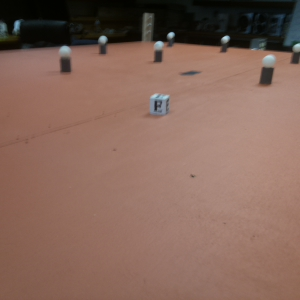blockE: (148, 91, 170, 118)
corner: (142, 13, 155, 41)
obstacle: (259, 56, 277, 88), (57, 47, 76, 75), (288, 43, 300, 67), (153, 42, 165, 64), (98, 37, 110, 57), (220, 37, 230, 53), (168, 33, 174, 47)
start: (178, 69, 202, 77)
